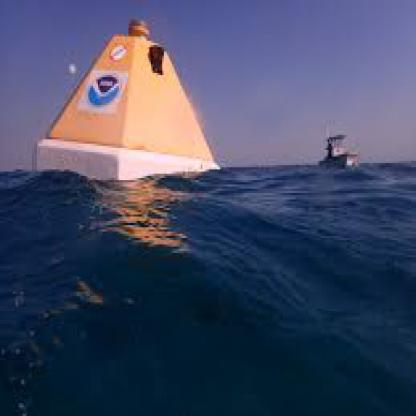buoy: (28, 9, 226, 197)
